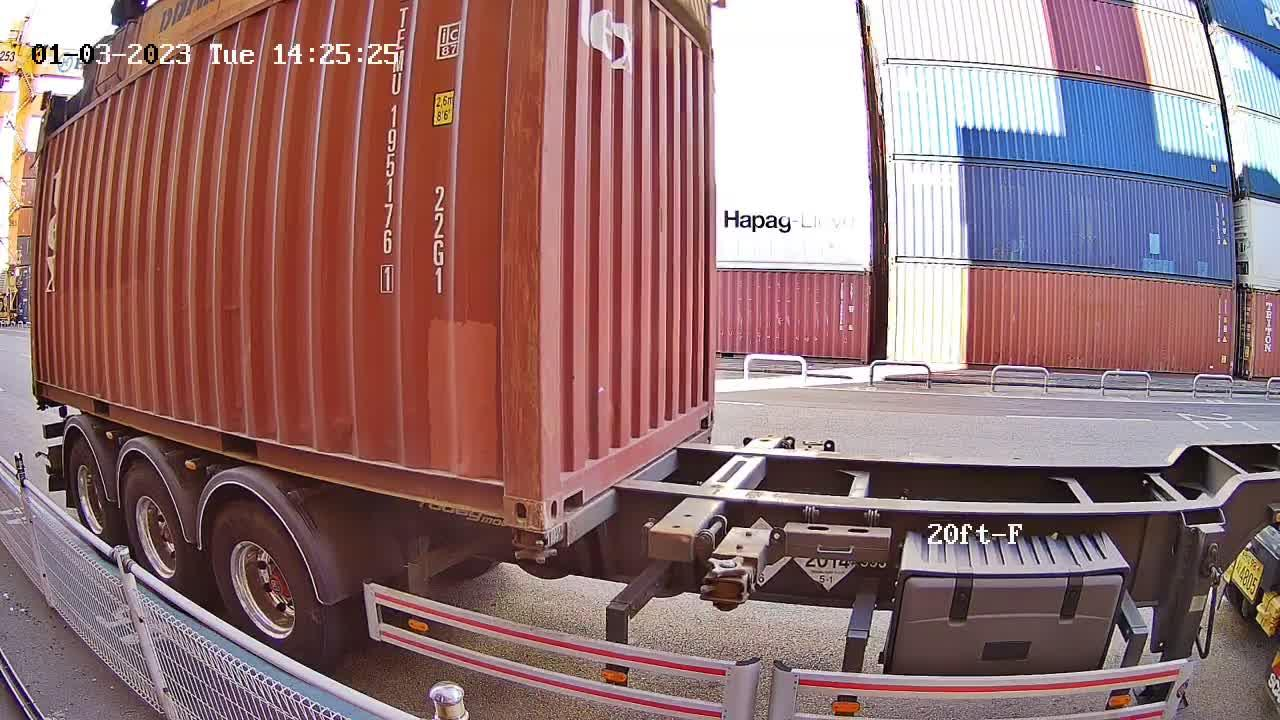Chassis: (505, 428, 714, 556)
Cone: (507, 522, 551, 563)
Hole_L: (540, 439, 588, 530)
Hole_R: (472, 447, 541, 531), (694, 393, 717, 434)
Tire: (211, 504, 324, 668), (123, 469, 192, 601), (71, 441, 114, 552)
